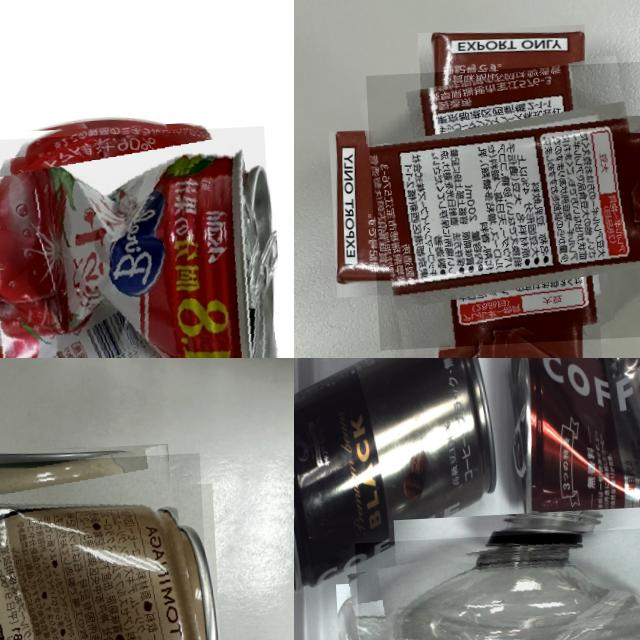Aluminium Foil: (365, 60, 640, 349)
Can: (0, 125, 279, 358), (294, 358, 495, 579), (0, 452, 218, 640), (506, 358, 640, 524)
Transparent Plastic Bottle: (353, 524, 640, 640)
